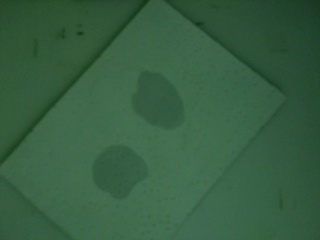Water_detected: (100, 150, 142, 192), (138, 75, 181, 113)
